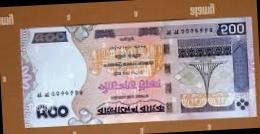500 tk: (20, 16, 258, 128)
